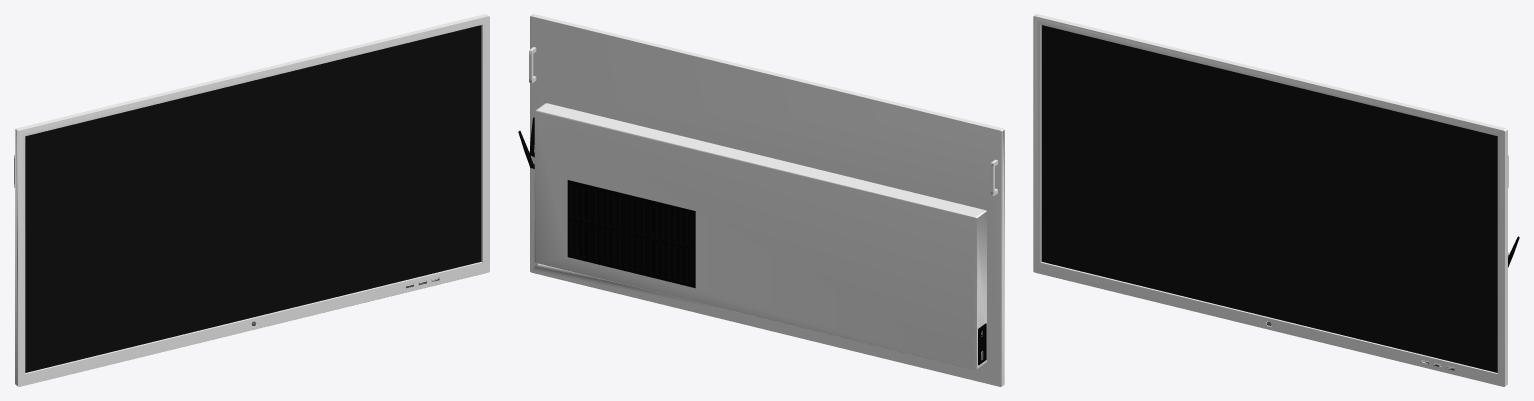
The model's file is dev-interactive-panel_lod1.glb.
The picture shows the model from 3 angles, left to right: view 1: azimuth 30°, elevation 25°; view 2: azimuth 150°, elevation 25°; view 3: azimuth 330°, elevation 25°; orthographic projection.
Visible parts, largest first — view 1: body; view 2: body; view 3: body.
Part boxes in pixels (left/top/right/bottom): body: left=14, top=14, right=489, bottom=386; body: left=518, top=14, right=1004, bottom=386; body: left=1033, top=14, right=1519, bottom=386.
Bounding box in the file's own units: 1.49 × 0.7657 × 0.0724.
Materials: 10 (2 with a texture image).
